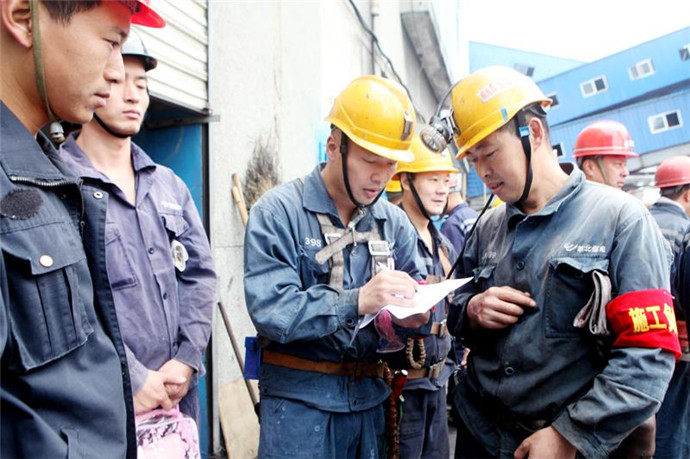helmet: (438, 62, 567, 212), (312, 66, 416, 209)
